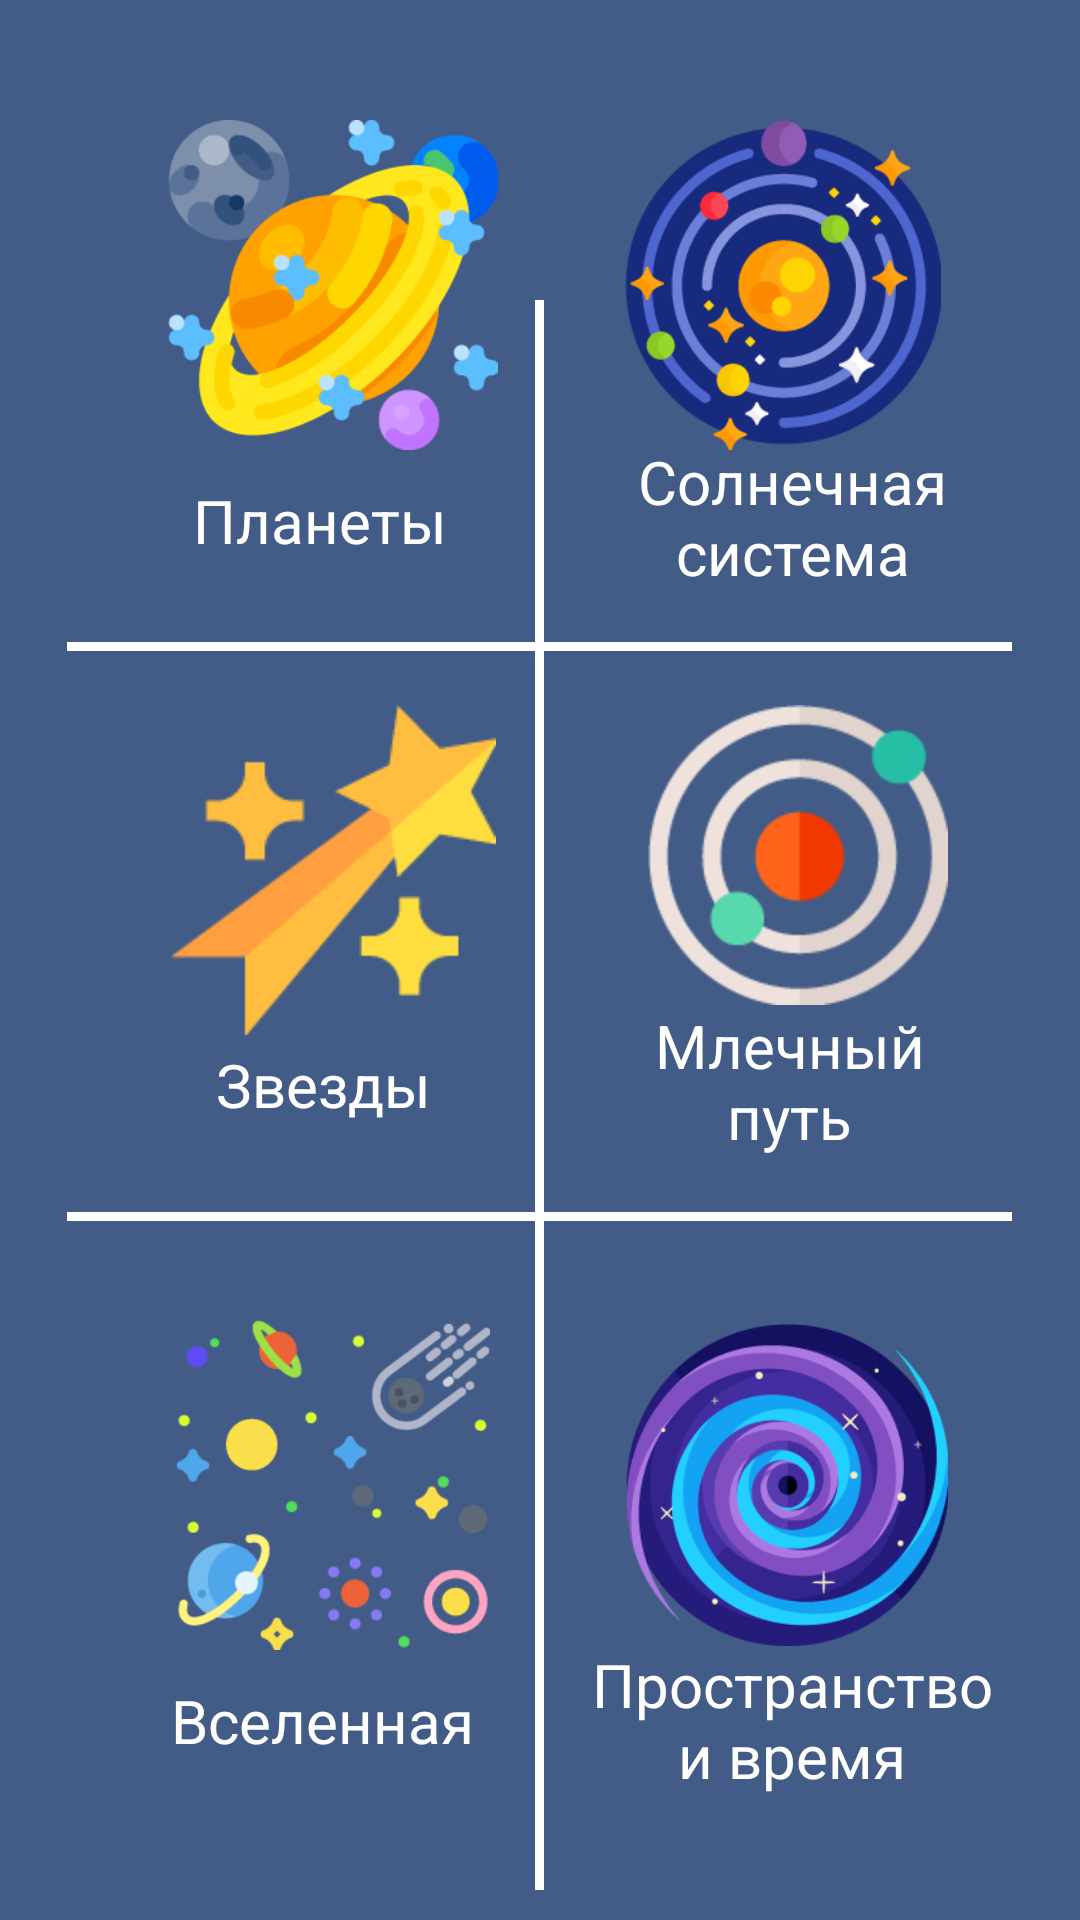

Screen size 1080×1920. Icon name, then its box in pixels as region(x1, y1, x2, y2):
blackhole: region(627, 1324, 948, 1646)
